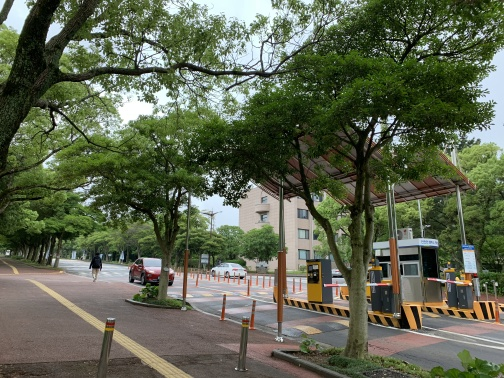Natural Science2: (237, 182, 339, 273)
